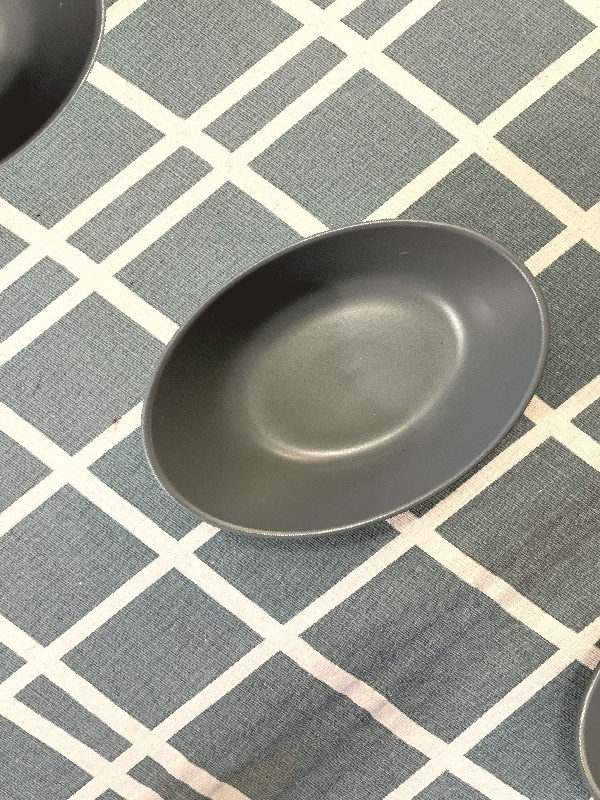bowl_big: (33, 146, 599, 624)
